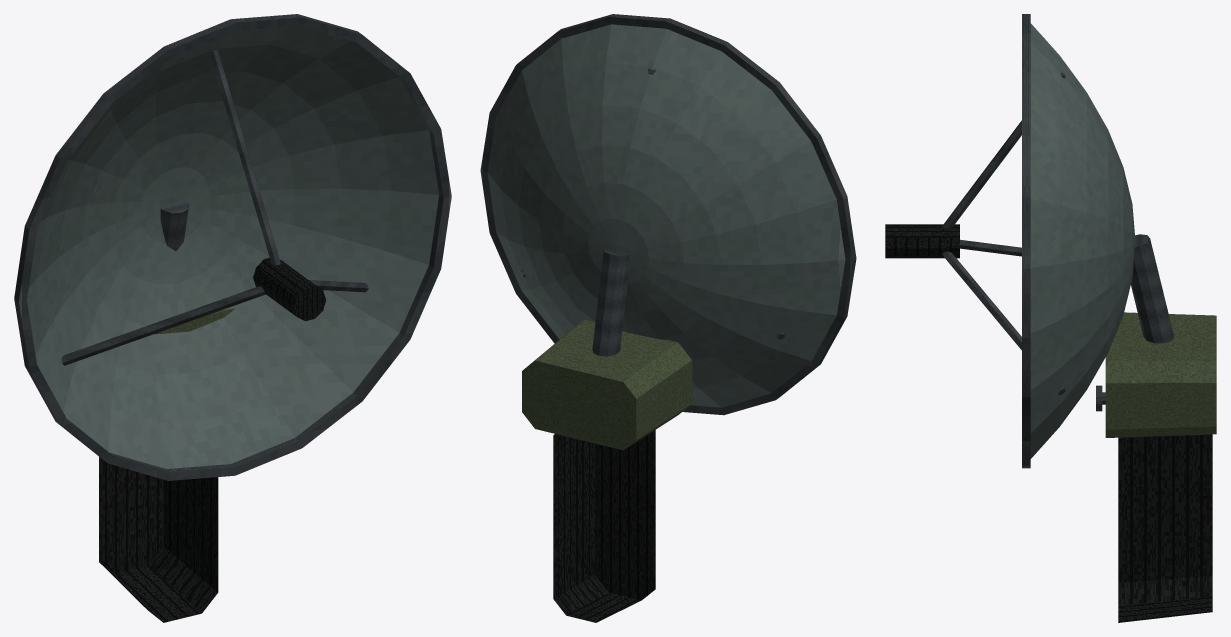
File: blender_parabolic_microphone_1.glb
The picture shows the model from 3 angles, left to right: view 1: azimuth 30°, elevation 25°; view 2: azimuth 150°, elevation 25°; view 3: azimuth 270°, elevation 25°; orthographic projection. The views are drawn at different scales.
Parts seen in each view (by area): view 1: blender_parabolic_microphone_1; view 2: blender_parabolic_microphone_1; view 3: blender_parabolic_microphone_1.
Boxes of the visible parts, x1,y1,x2,y2 form: blender_parabolic_microphone_1: [14, 14, 451, 622]; blender_parabolic_microphone_1: [480, 14, 856, 622]; blender_parabolic_microphone_1: [885, 14, 1216, 622].
Size of the model in its own units: 0.214 by 0.2995 by 0.155.
Materials: 5 (5 with a texture image).
